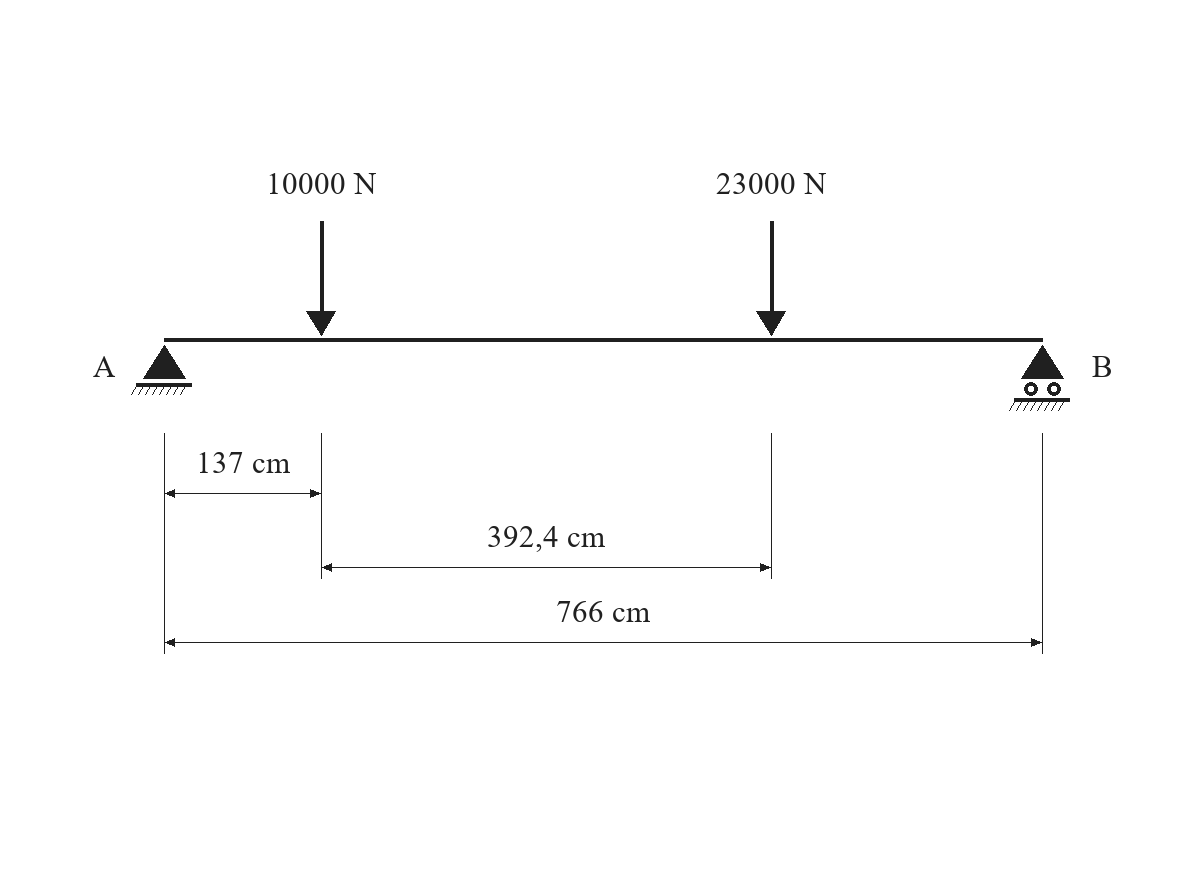pin_support: (131, 345, 192, 395)
point_load: (306, 221, 336, 336), (756, 221, 786, 336)
roller_support: (1009, 345, 1070, 411)
